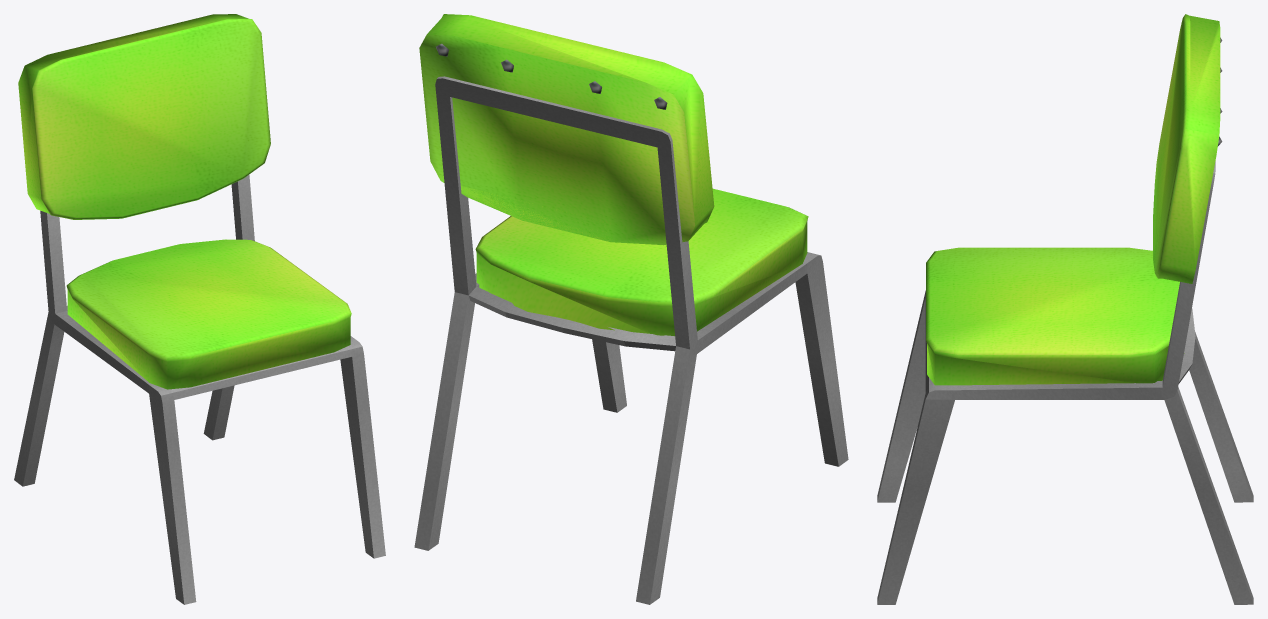
Rendered from Dining_Chair_03.FBX.
The picture shows the model from 3 angles, left to right: view 1: azimuth 30°, elevation 25°; view 2: azimuth 150°, elevation 25°; view 3: azimuth 270°, elevation 25°; orthographic projection. The views are drawn at different scales.
Parts seen in each view (by area): view 1: Dining_Chair; view 2: Dining_Chair; view 3: Dining_Chair.
Boxes of the visible parts, x1,y1,x2,y2 form: Dining_Chair: [14, 14, 385, 604]; Dining_Chair: [414, 14, 848, 604]; Dining_Chair: [877, 14, 1253, 604].
Size of the model in its own units: 102 by 186 by 131.
